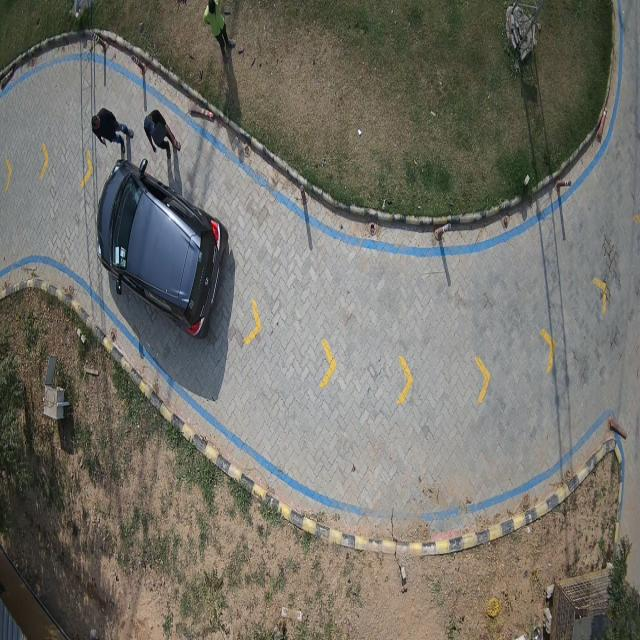car: (98, 151, 228, 337)
